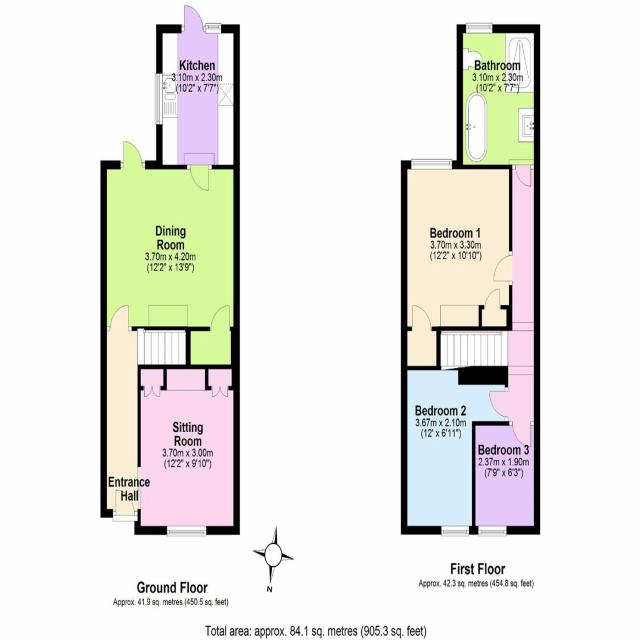DOOR: (183, 152, 215, 192), (112, 489, 138, 522), (487, 386, 509, 422), (508, 159, 535, 188), (120, 140, 146, 169), (508, 421, 535, 448), (181, 4, 206, 33), (493, 250, 513, 286), (106, 305, 132, 332), (209, 304, 231, 331), (411, 304, 432, 331)
ROOM: (100, 140, 240, 332), (400, 158, 513, 331), (400, 365, 509, 537), (137, 364, 240, 537), (154, 4, 240, 192), (472, 421, 541, 537)
WINDOW: (411, 158, 453, 170), (166, 525, 207, 537), (154, 73, 163, 125), (440, 524, 470, 538), (478, 525, 507, 537), (465, 22, 493, 34), (205, 22, 222, 34)
